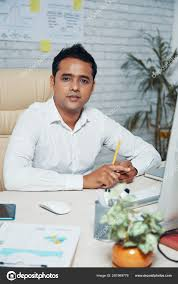Indian_Male: (54, 57, 94, 120)
